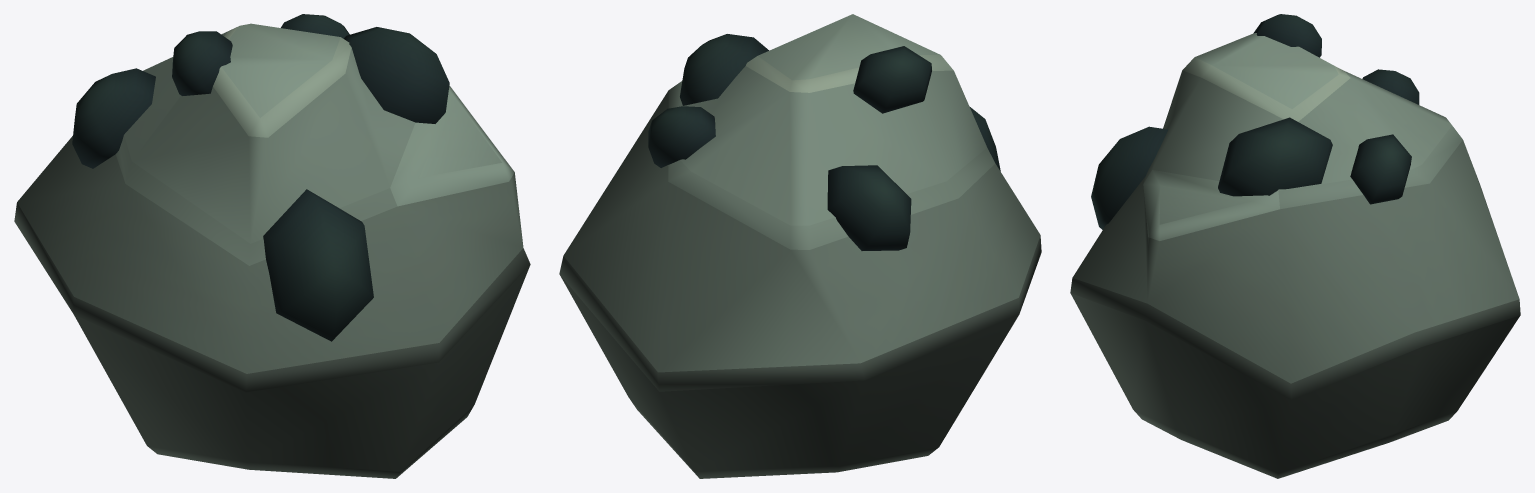
File: ore_nuggets_coal_M.fbx
The picture shows the model from 3 angles, left to right: view 1: azimuth 30°, elevation 25°; view 2: azimuth 150°, elevation 25°; view 3: azimuth 270°, elevation 25°; orthographic projection. The views are drawn at different scales.
Parts seen in each view (by area): view 1: ore_nuggets_coal_M; view 2: ore_nuggets_coal_M; view 3: ore_nuggets_coal_M.
Boxes of the visible parts, x1,y1,x2,y2 form: ore_nuggets_coal_M: (14,14,530,478); ore_nuggets_coal_M: (559,14,1041,478); ore_nuggets_coal_M: (1070,14,1520,478).
Size of the model in its own units: 137 by 136 by 139.
1 material, 1 textured.
